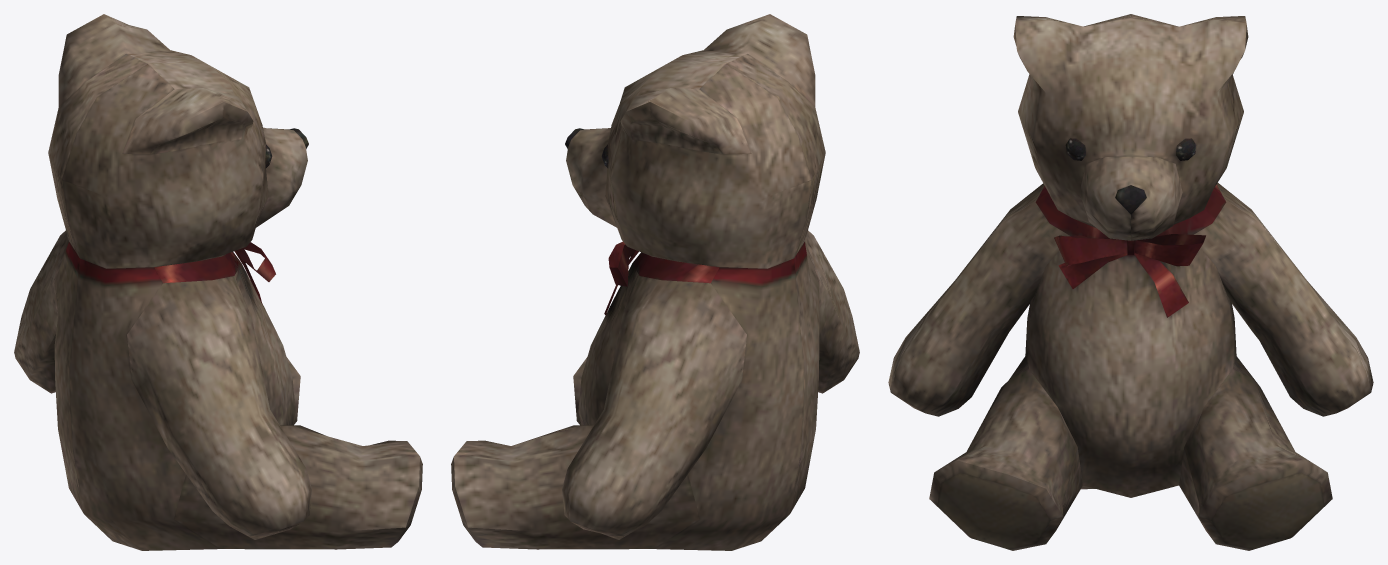
File: teddy_bear.glb
3 renders of one model, left to right at view 1: azimuth 30°, elevation 25°; view 2: azimuth 150°, elevation 25°; view 3: azimuth 270°, elevation 25°, orthographic. The views are drawn at different scales.
Visible parts, largest first — view 1: teddy_bear; view 2: teddy_bear; view 3: teddy_bear.
Boxes of the visible parts, x1,y1,x2,y2 form: teddy_bear: [14, 14, 422, 550]; teddy_bear: [451, 14, 859, 550]; teddy_bear: [888, 14, 1373, 550].
Size of the model in its own units: 0.1884 by 0.3015 by 0.2881.
Materials: 1 (1 with a texture image).
